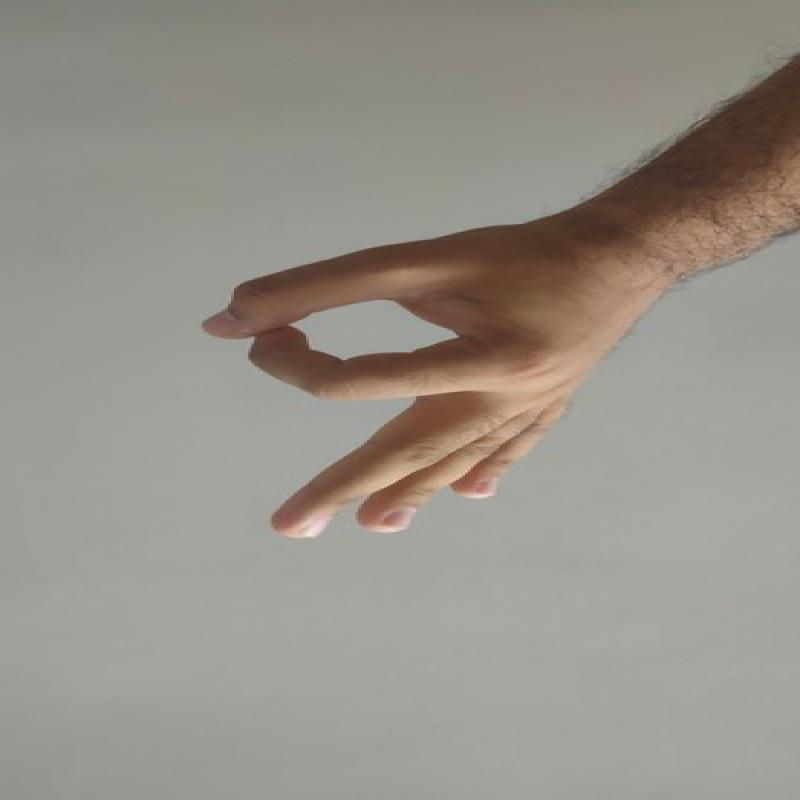Mudraakhyam: (150, 209, 672, 551)
